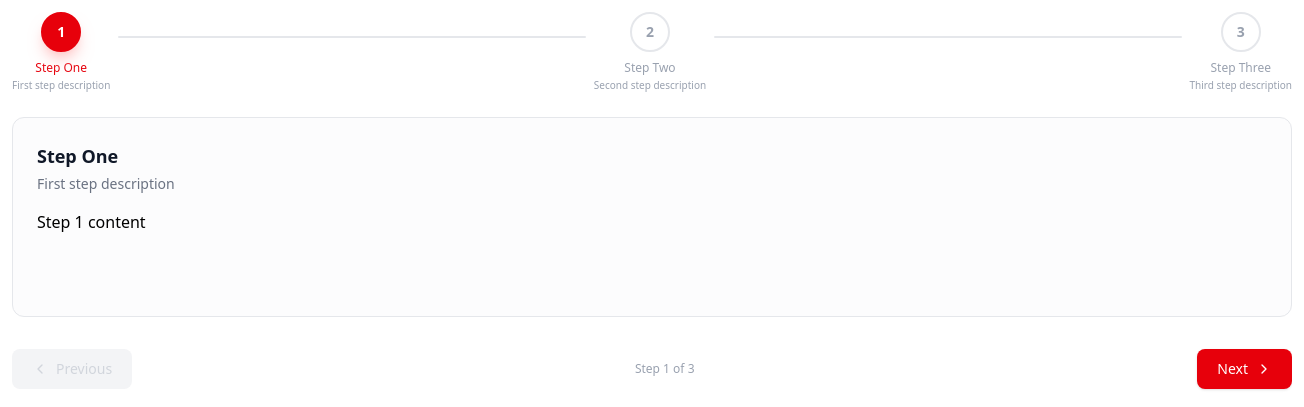
Test case: Form Component — Multi-Stage Navigation › Step Navigation › goes back to previous step when Previous is clicked
Click the button "Next".
click(1245, 369)  # box [1197,349,1292,389]
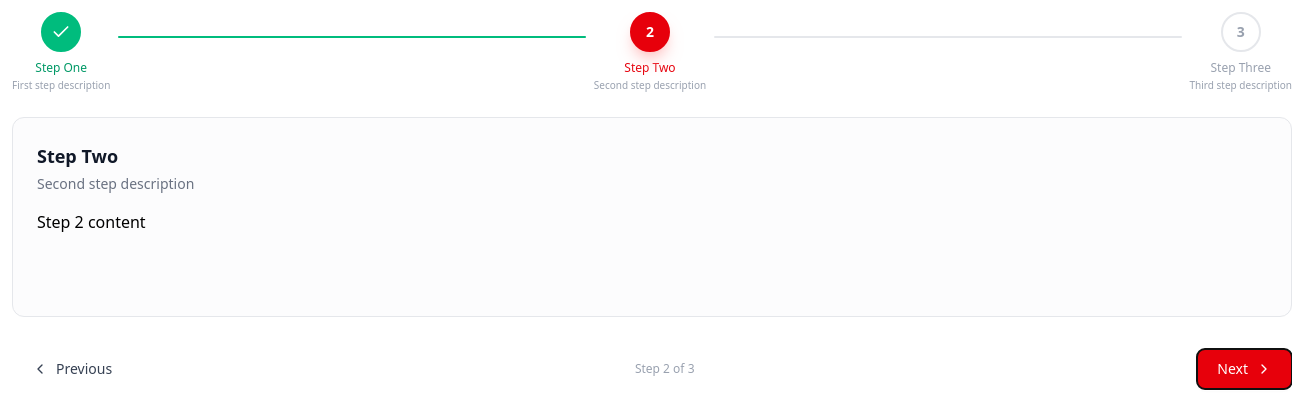
Expected: the text "Step 2 content" is shown, [37,211,146,233]
Click the button "Previous".
click(72, 369)  # box [12,349,132,389]
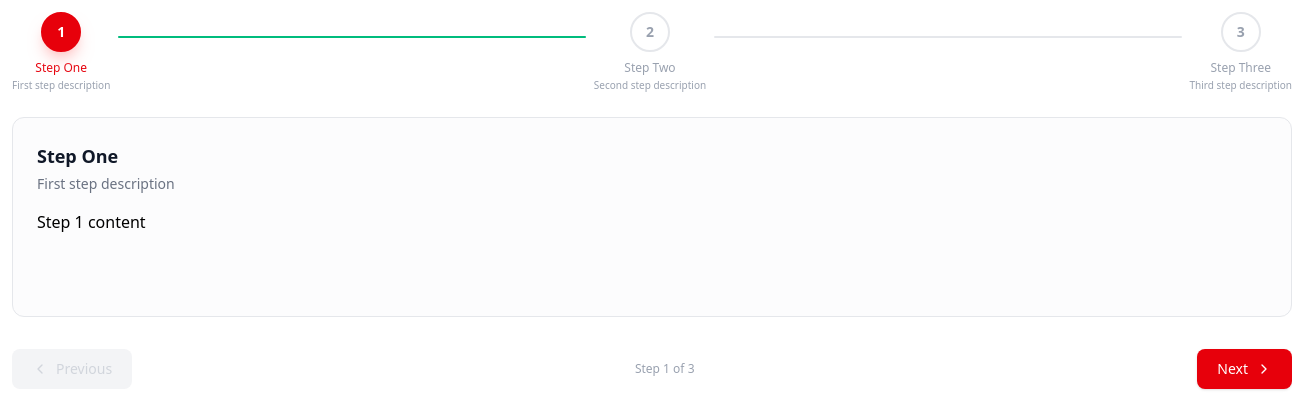
Expected: the text "Step 1 content" is shown, [37,211,146,233]
